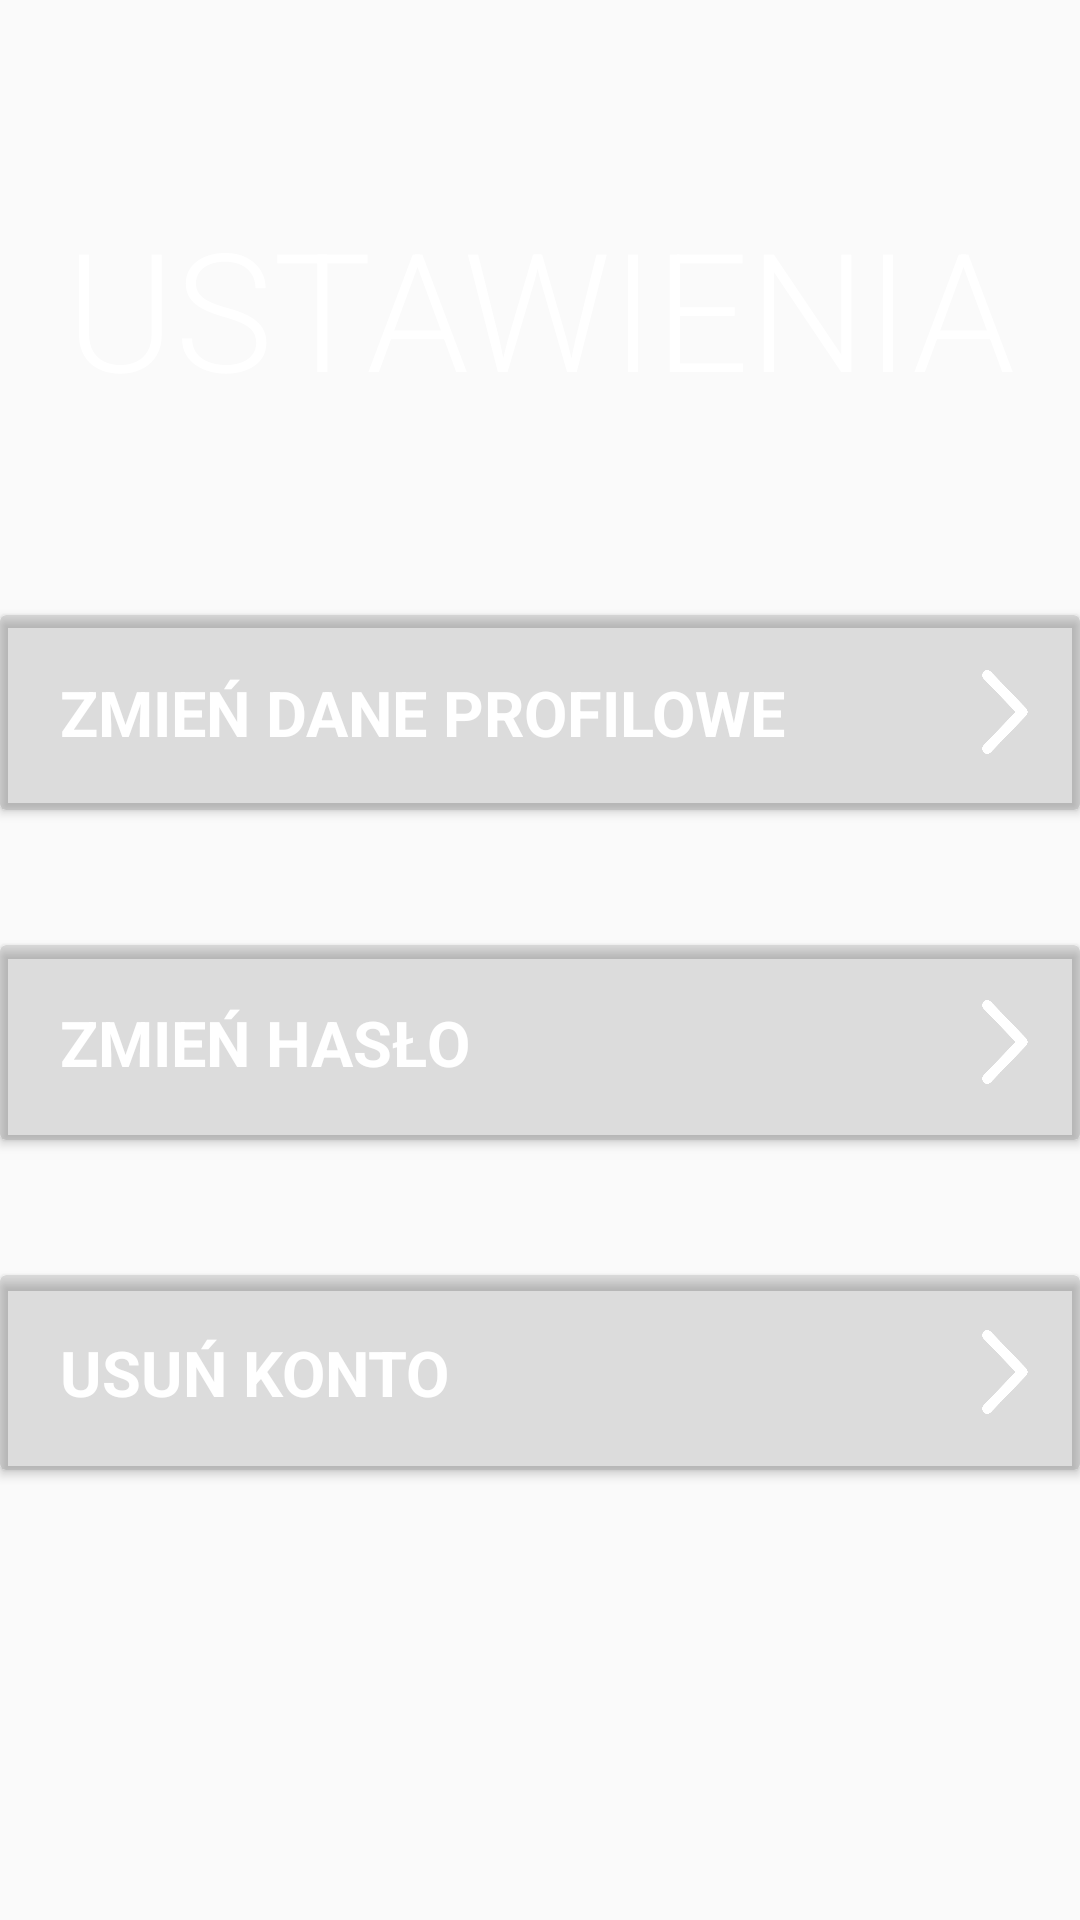

Icon click points for this 1080*1920 phone screenshot, format (x,y):
next: (1005,712), (1005,1042), (1005,1372)
